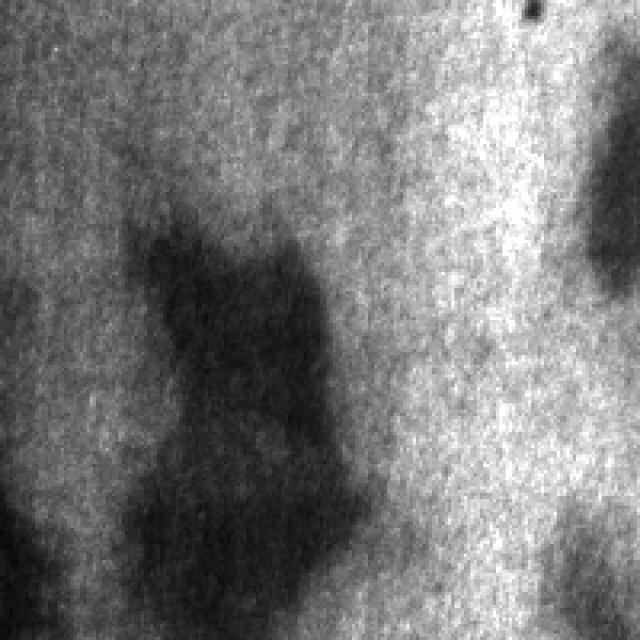patches: (138, 230, 336, 628), (524, 493, 634, 637), (582, 42, 637, 291), (0, 493, 67, 637)
